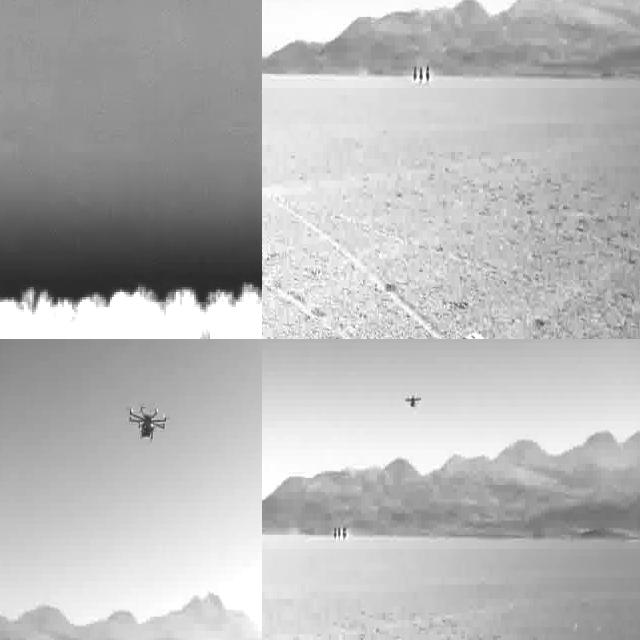drone: (124, 394, 168, 444), (402, 385, 424, 413)
